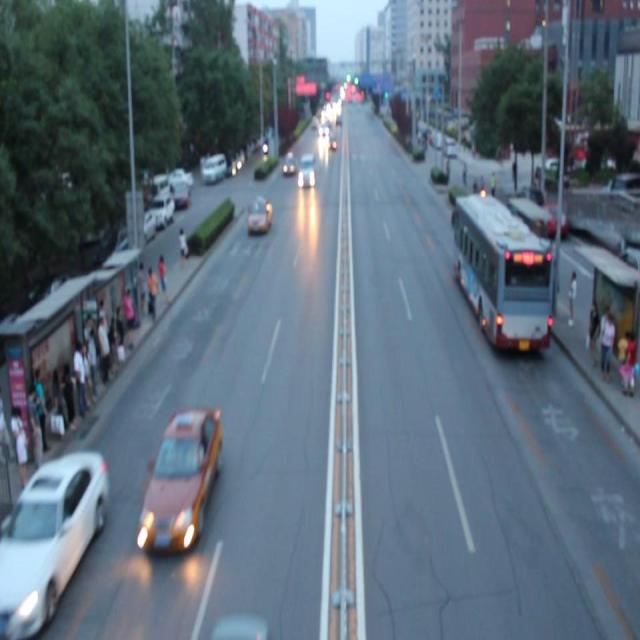car: (0, 452, 110, 625), (145, 403, 222, 558), (246, 189, 272, 240), (278, 147, 297, 179)
truck: (298, 152, 315, 195)
van: (452, 195, 549, 351)
